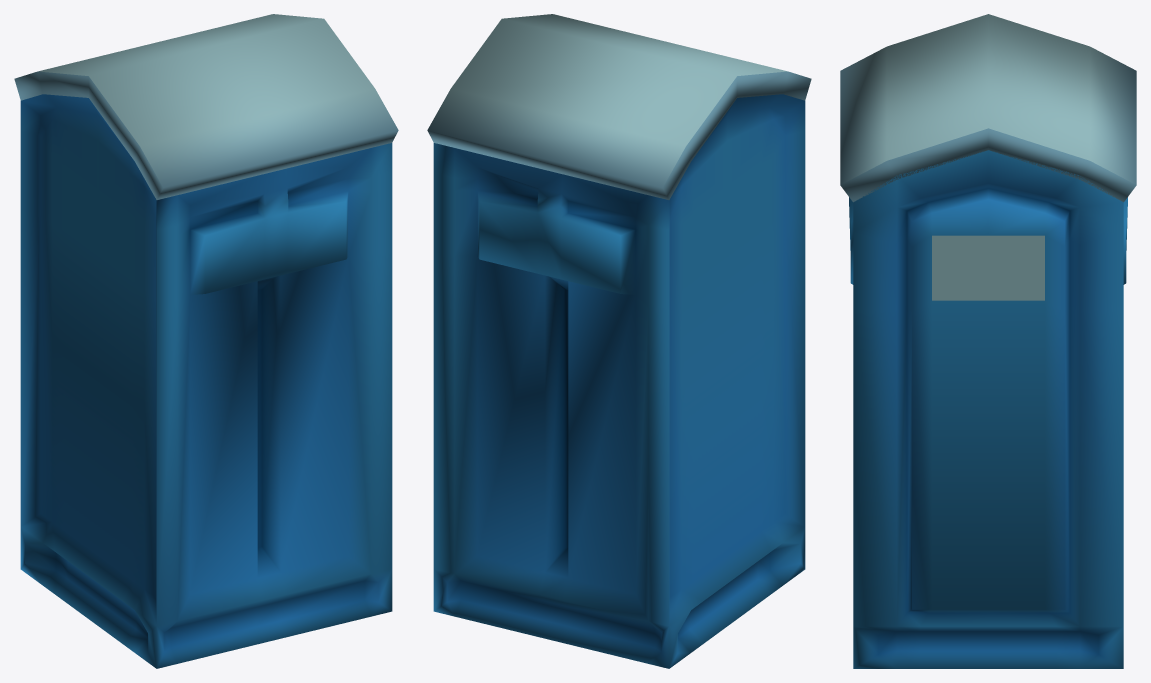
Rendered from PortaPotty.gltf.
3 renders of one model, left to right at view 1: azimuth 30°, elevation 25°; view 2: azimuth 150°, elevation 25°; view 3: azimuth 270°, elevation 25°, orthographic.
Visible parts, largest first — view 1: PortaPotty; view 2: PortaPotty; view 3: PortaPotty.
Boxes of the visible parts, left/top/right/bottom form: PortaPotty: left=14, top=14, right=398, bottom=668; PortaPotty: left=427, top=14, right=811, bottom=668; PortaPotty: left=840, top=14, right=1136, bottom=668.
Size of the model in its own units: 95.31 by 204 by 102.
